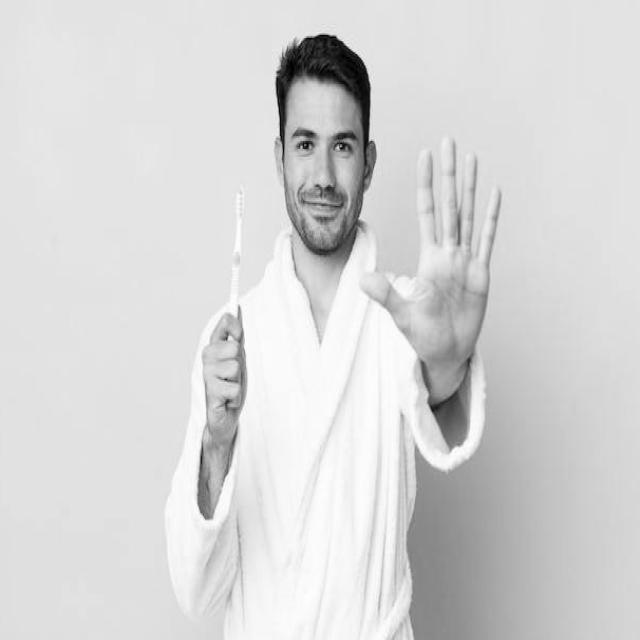stop: (355, 125, 507, 384)
